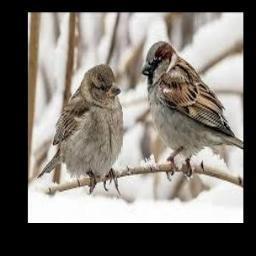Sparrow: (141, 40, 243, 181), (37, 63, 124, 196)
